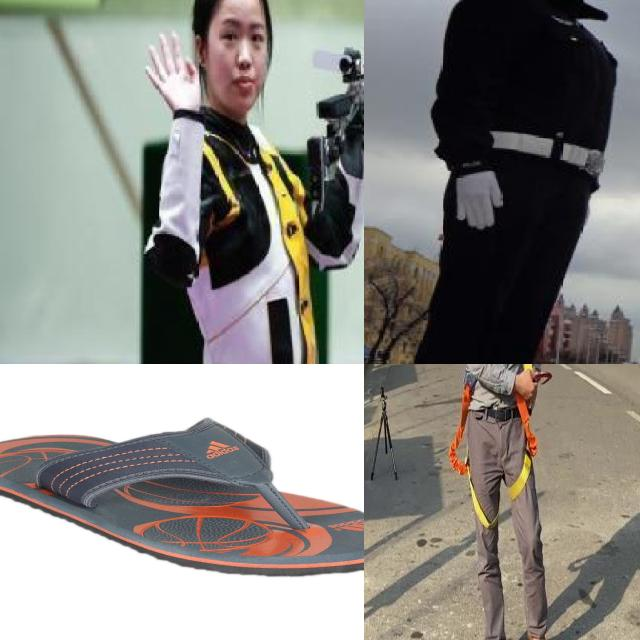Harness: (449, 377, 498, 530), (509, 394, 539, 502)
No_Glasses: (216, 18, 264, 52)
Sandals: (0, 416, 364, 579)
face_nomask: (210, 4, 266, 108)
hand_glove: (451, 169, 504, 231)
hand_noglove: (144, 30, 204, 111)
head_nohelmet: (193, 0, 268, 11)
person: (127, 0, 364, 364), (436, 0, 616, 364)
